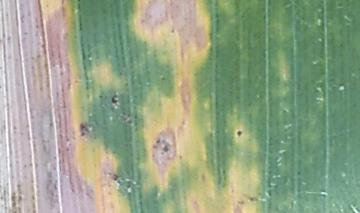tarspot: (108, 92, 122, 107), (234, 128, 245, 138), (161, 145, 170, 154), (110, 173, 121, 180), (153, 137, 163, 143)
